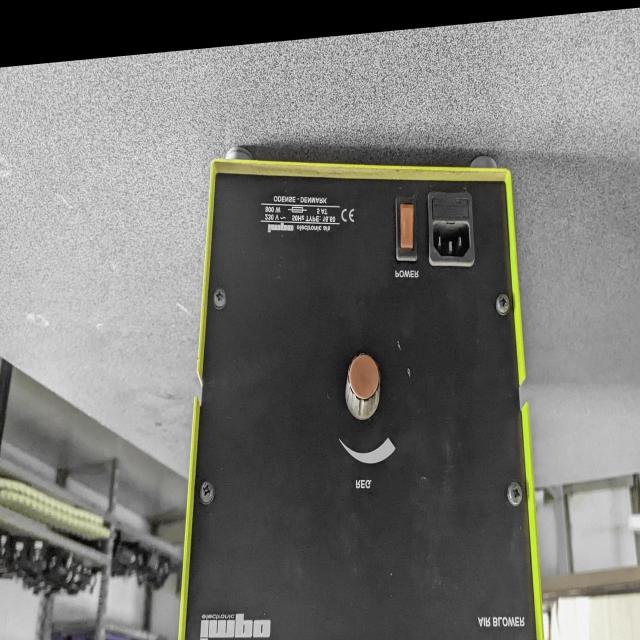Vacuum Pump: (153, 113, 567, 640)
